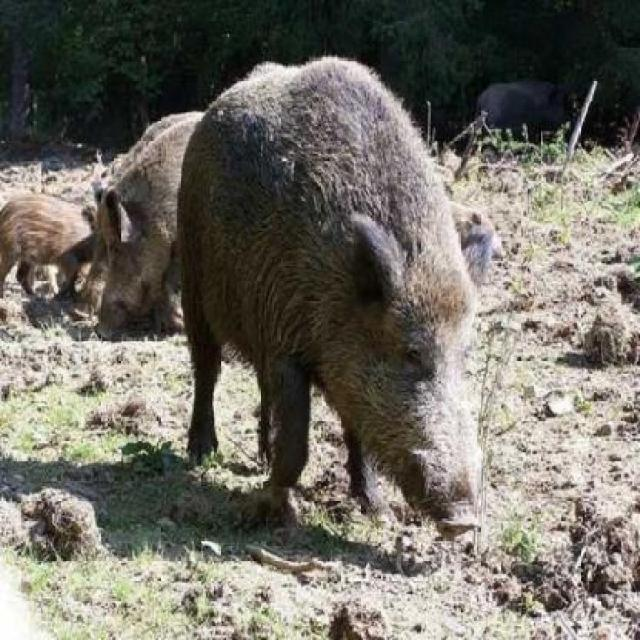Boar: (187, 8, 518, 580)
